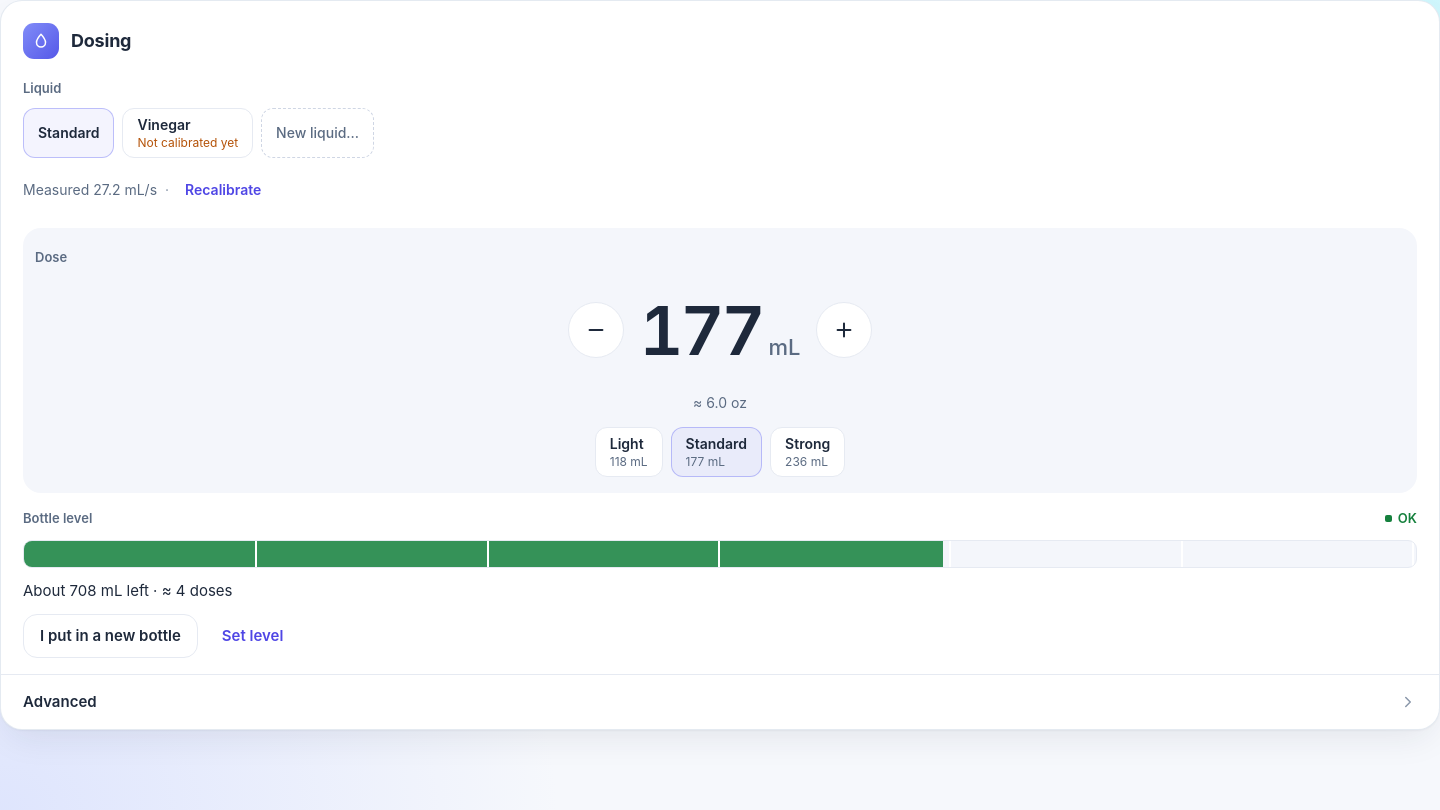
Test case: CalibrateSheet › explains how to run a dose first on NO_RECENT_DISPENSE
Click the button "Recalibrate" at (223, 190), box [177, 168, 269, 212]
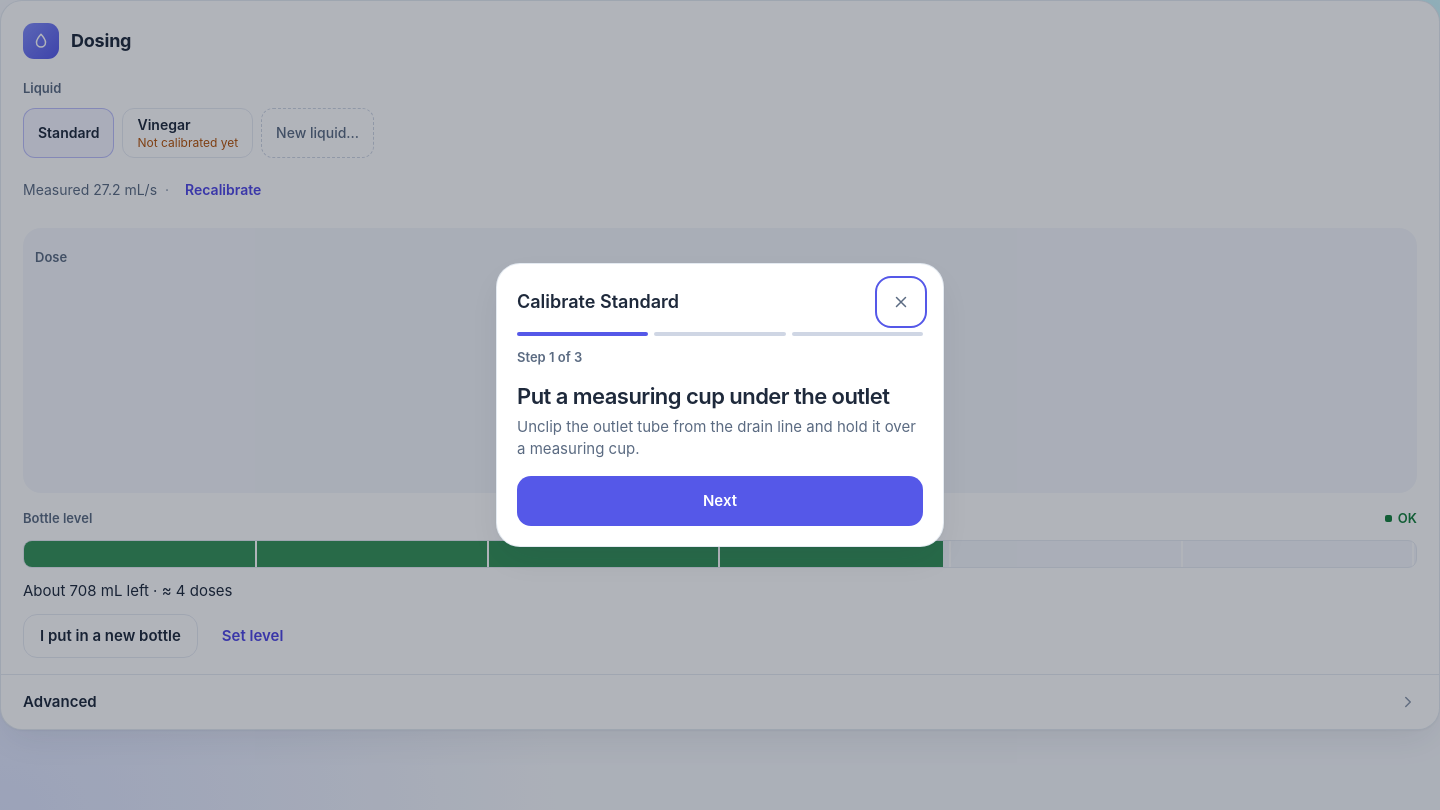
Click the button "Next" at (720, 501), box [517, 476, 923, 526]
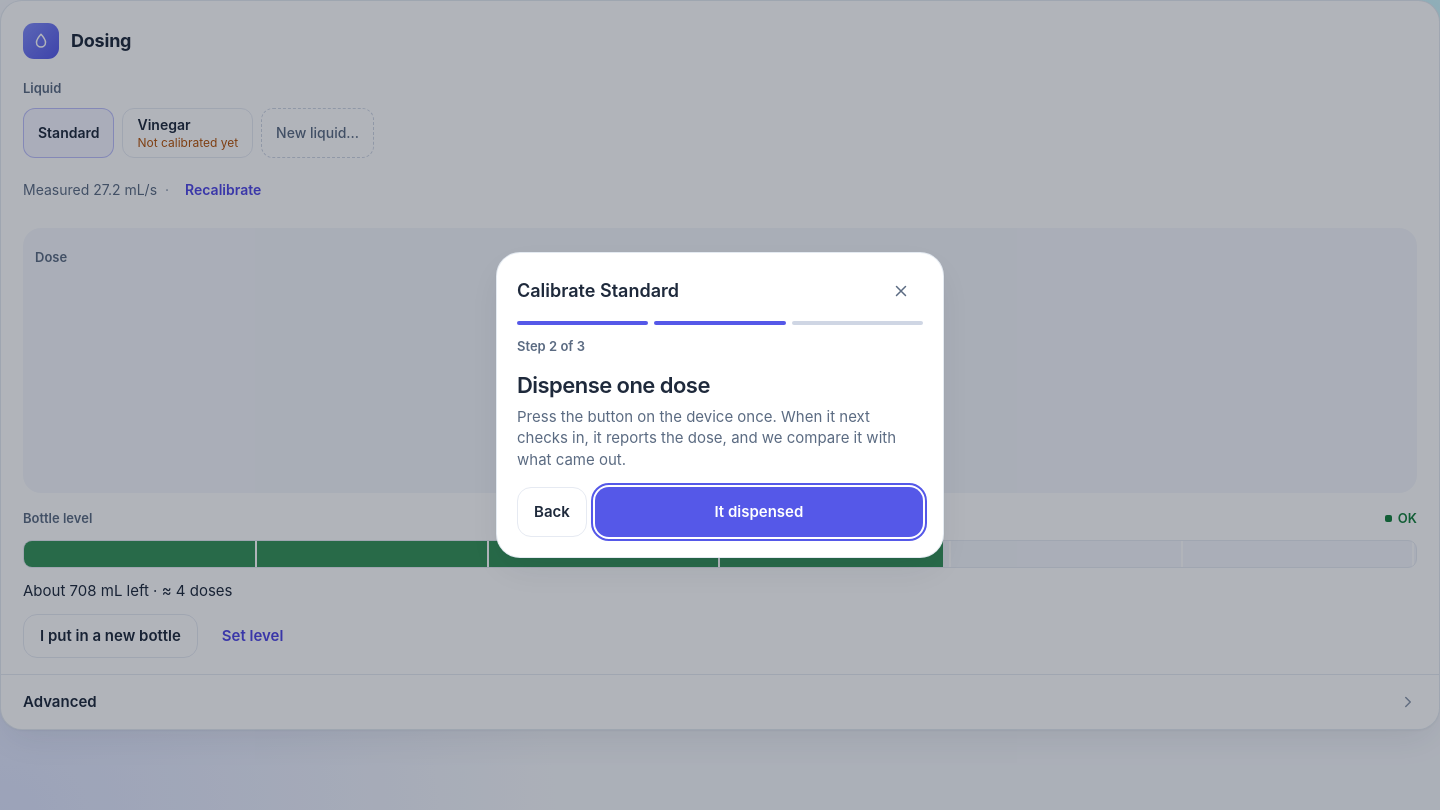
Click the button "It dispensed" at (759, 512), box [595, 487, 923, 537]
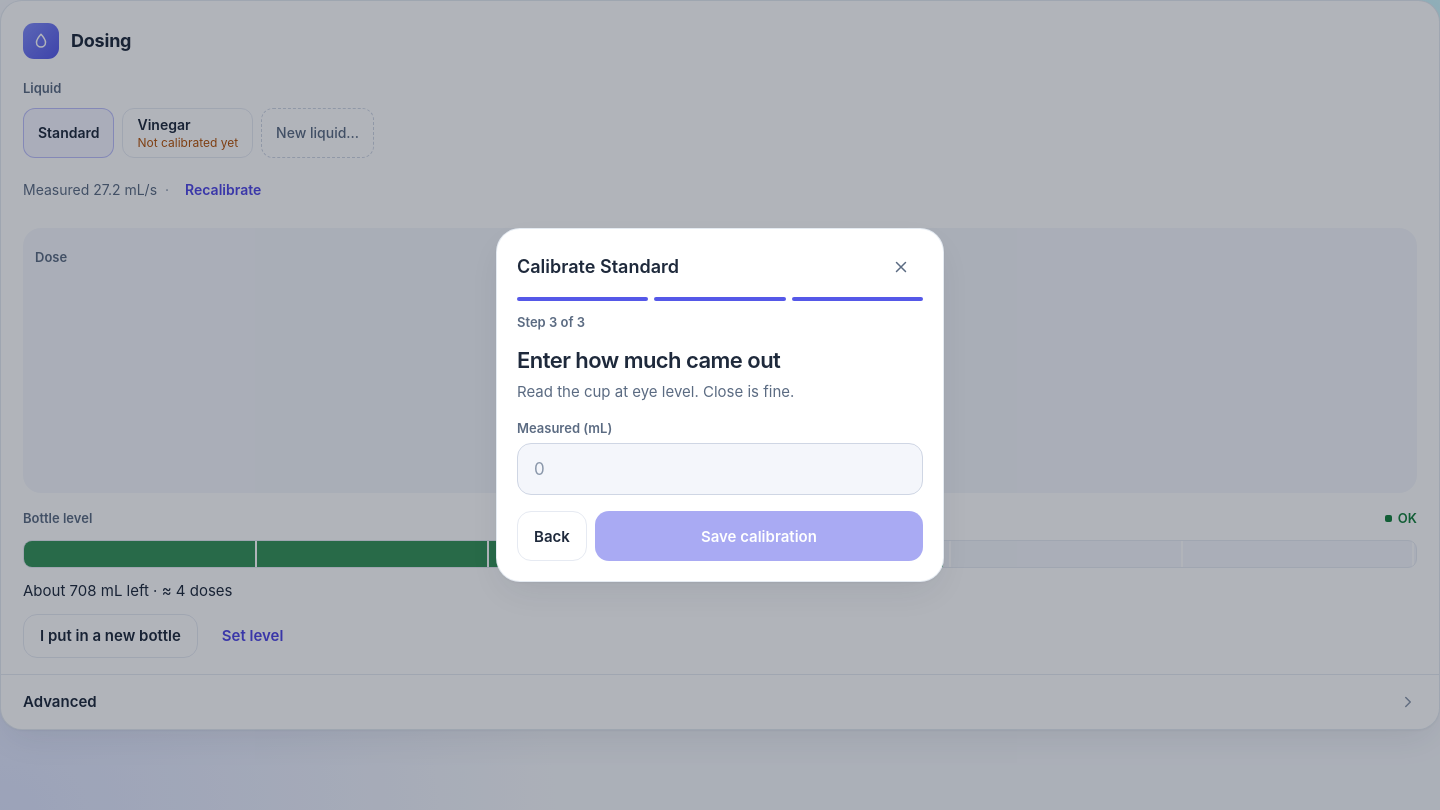
Result: the button "Save calibration" is disabled at [595, 512, 923, 562]
Type "181" into the field labelled "Measured (mL)" at (720, 470), box [517, 444, 923, 496]
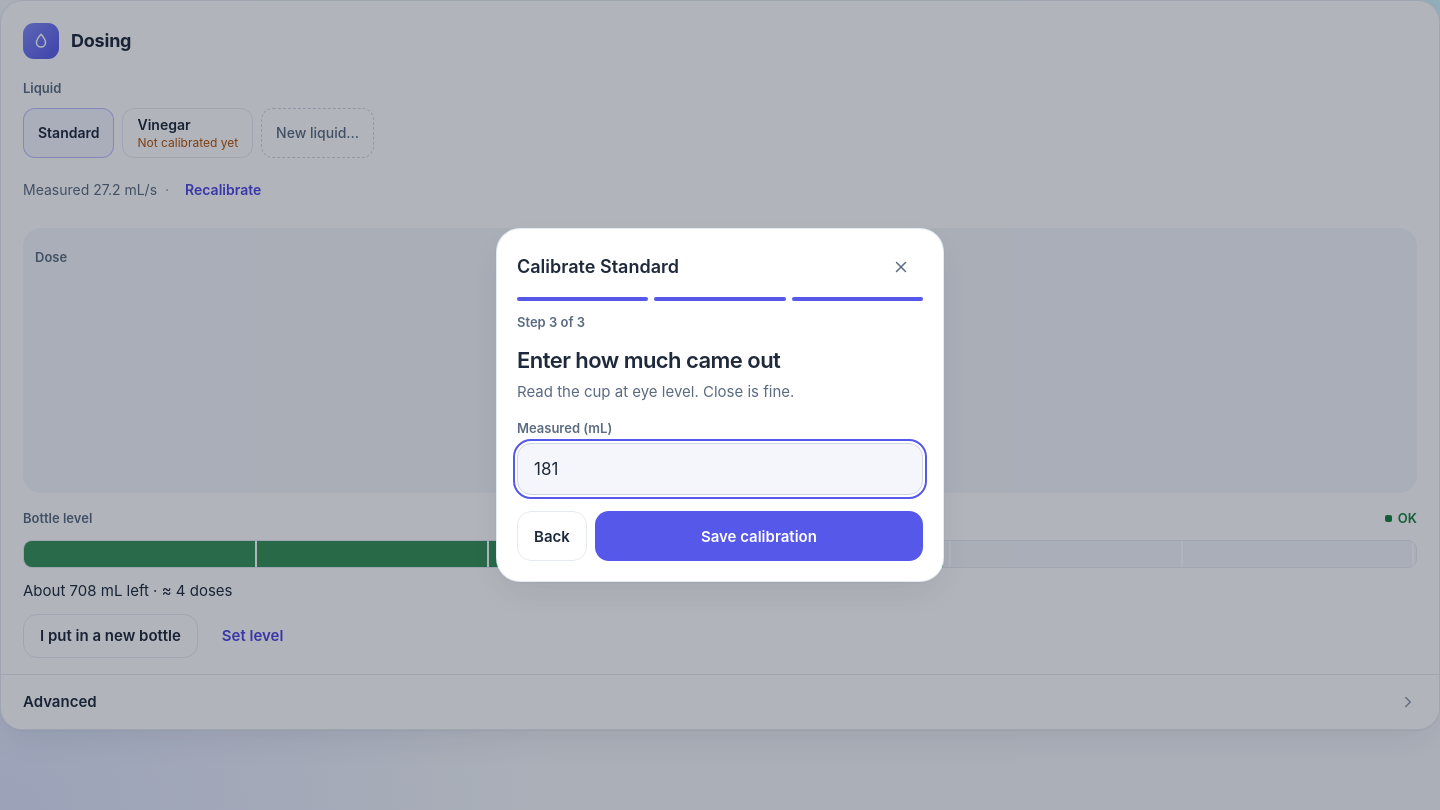
Click the button "Save calibration" at (759, 536), box [595, 512, 923, 562]
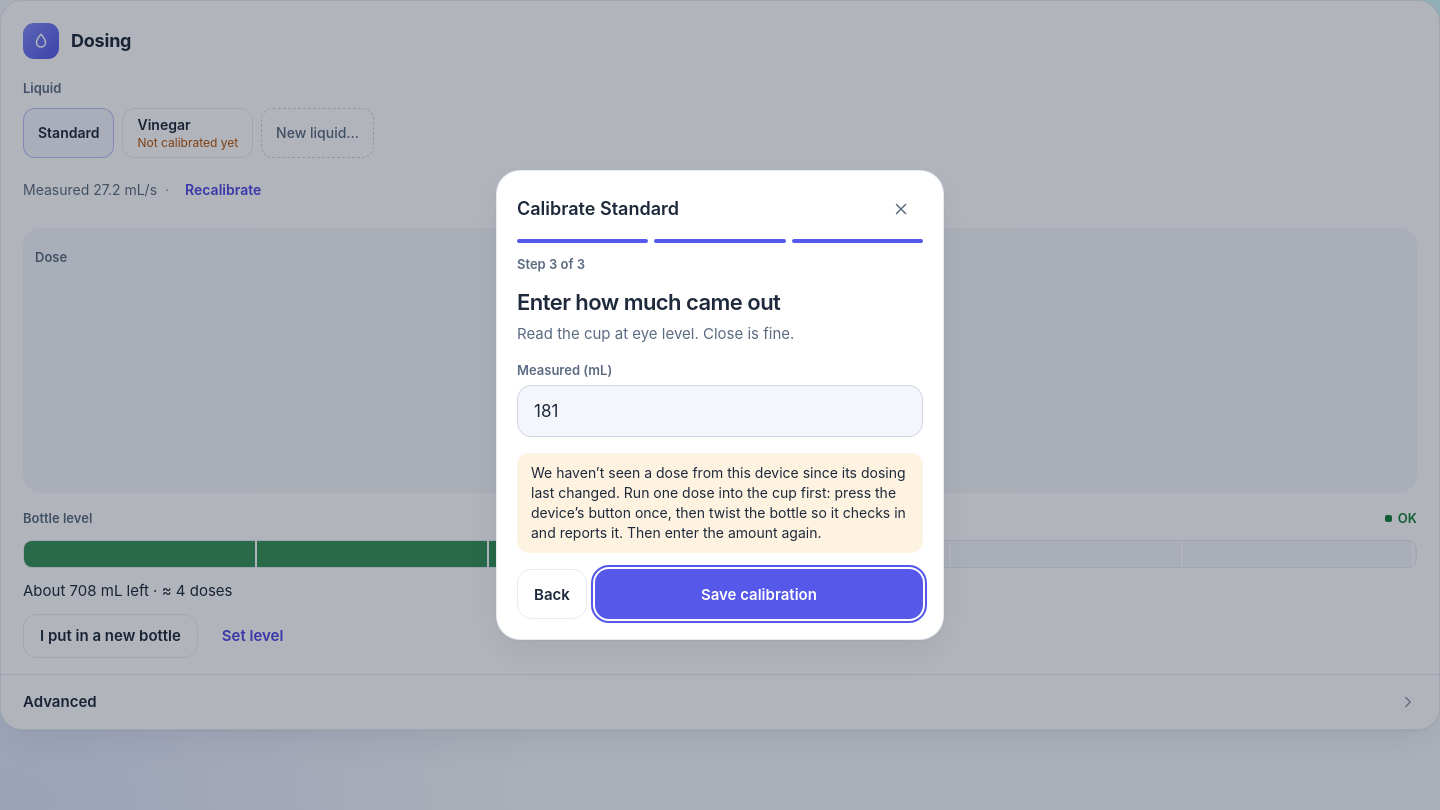
Result: the message shows "Run one dose into the cup first" at [531, 464, 906, 542]
